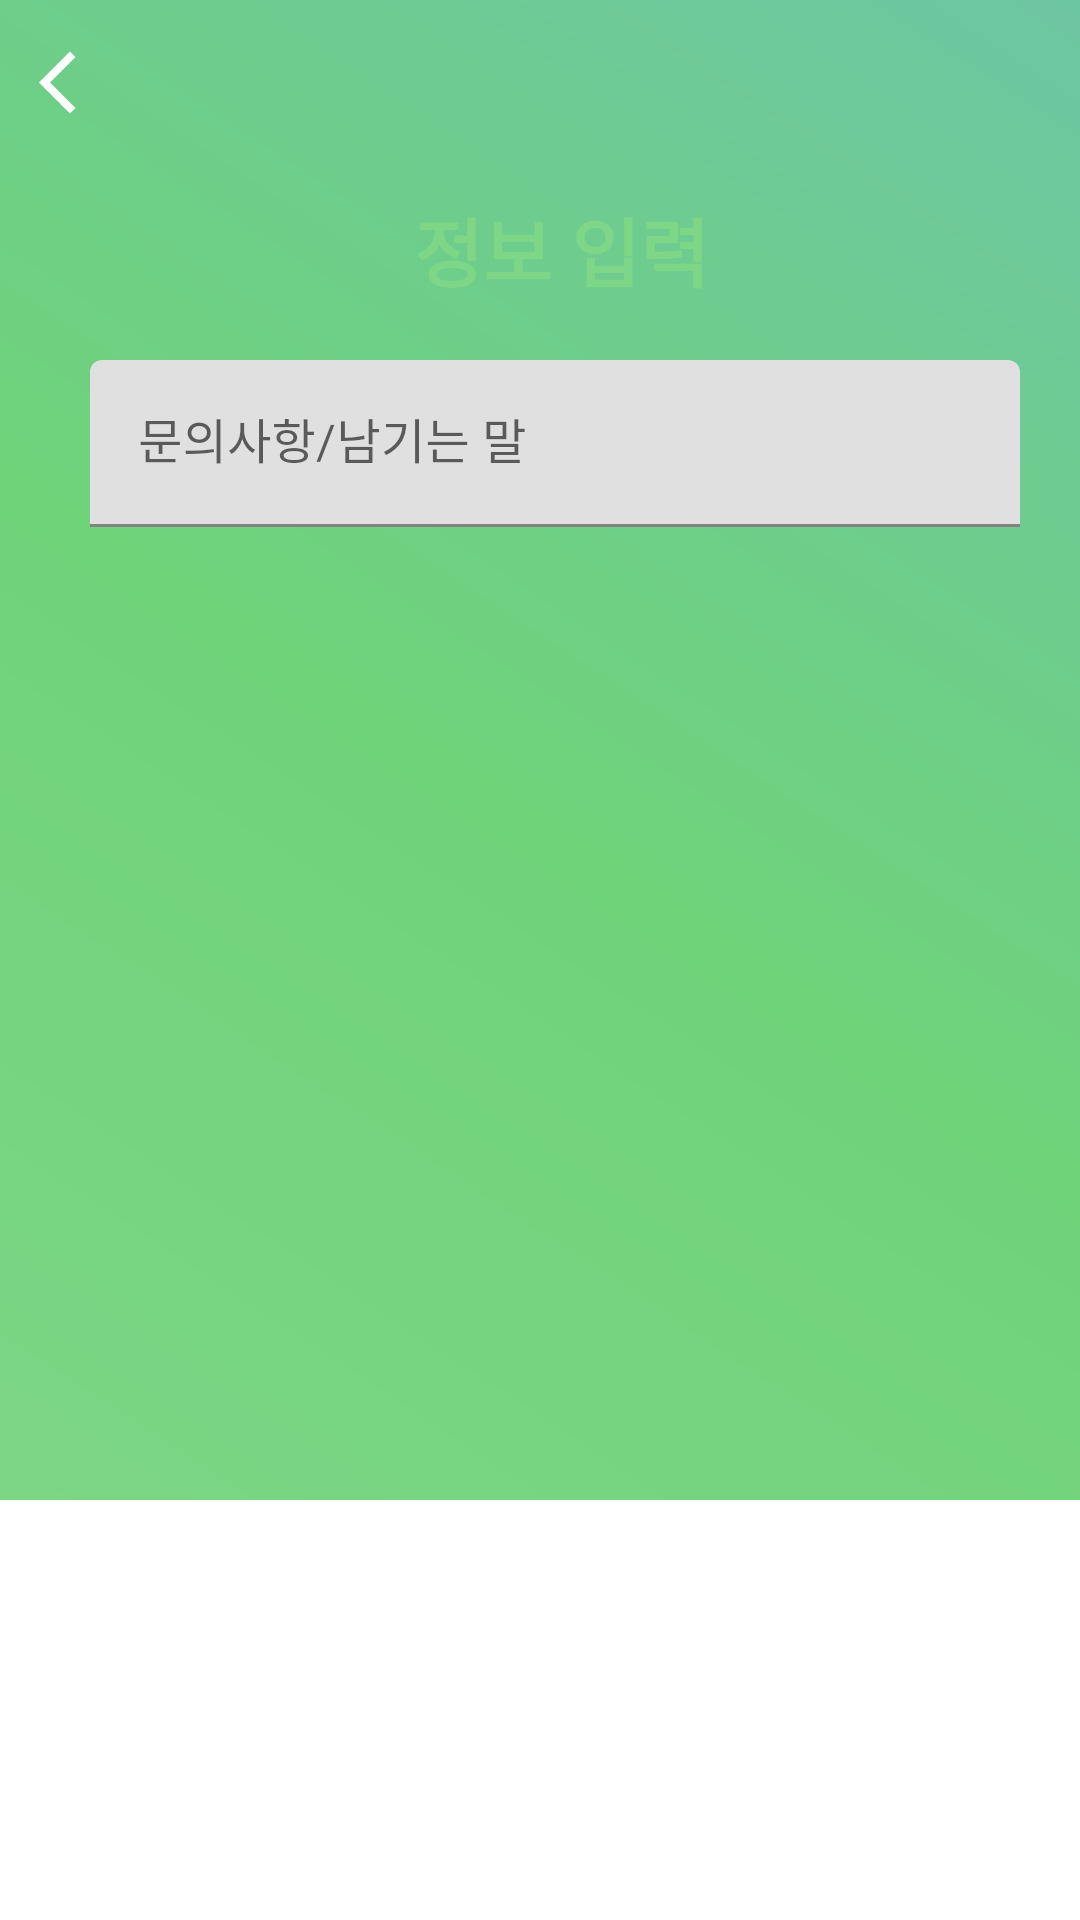

Where icons sit on this 1080 × 1920 app screen, as [x1,y1,x2,y2]:
arrow back: [39,52,75,113]
